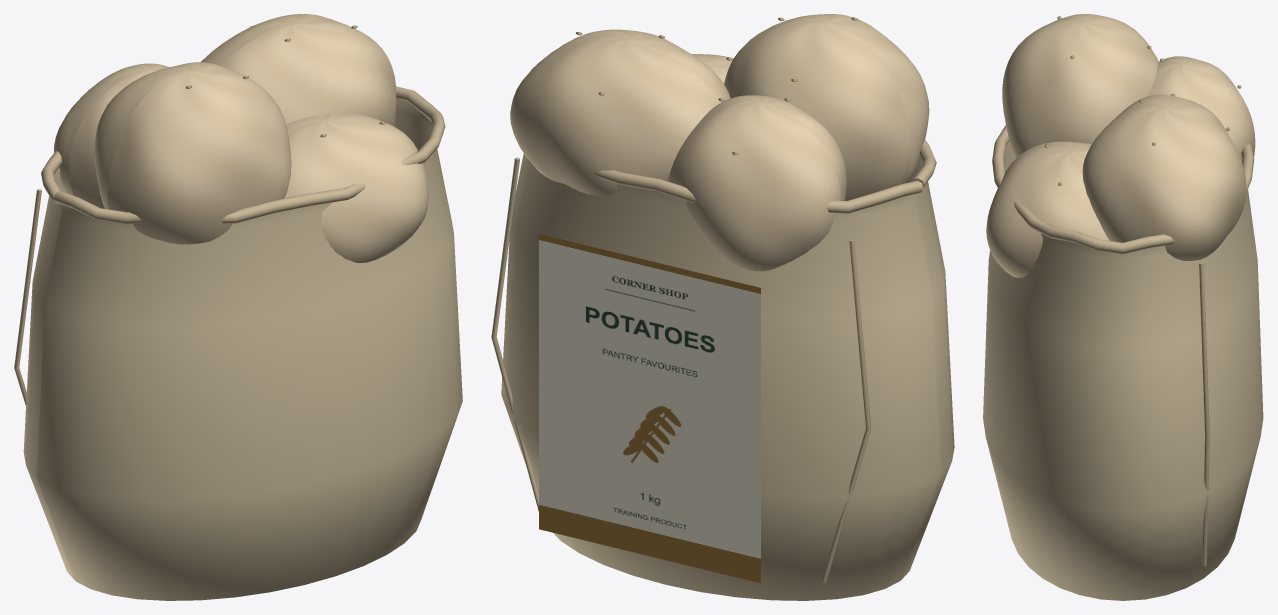
Rendered from potato.glb.
The picture shows the model from 3 angles, left to right: view 1: azimuth 30°, elevation 25°; view 2: azimuth 150°, elevation 25°; view 3: azimuth 270°, elevation 25°; orthographic projection. The views are drawn at different scales.
Visible parts, largest first — view 1: library-potato-open-paper-bag, library-potato-product-potato-skin, library-potato-product-potato-kraft-fold; view 2: library-potato-open-paper-bag, library-potato-product-potato-skin, library-potato-produce-label, library-potato-product-potato-kraft-fold; view 3: library-potato-open-paper-bag, library-potato-product-potato-skin, library-potato-product-potato-kraft-fold.
Boxes of the visible parts, x1=… form: library-potato-open-paper-bag: x1=23, y1=99, x2=462, y2=600; library-potato-product-potato-skin: x1=54, y1=14, x2=428, y2=262; library-potato-product-potato-kraft-fold: x1=14, y1=86, x2=445, y2=405; library-potato-open-paper-bag: x1=501, y1=153, x2=954, y2=600; library-potato-product-potato-skin: x1=510, y1=14, x2=929, y2=271; library-potato-produce-label: x1=539, y1=234, x2=760, y2=583; library-potato-product-potato-kraft-fold: x1=491, y1=140, x2=936, y2=583; library-potato-open-paper-bag: x1=983, y1=141, x2=1263, y2=600; library-potato-product-potato-skin: x1=986, y1=14, x2=1255, y2=277; library-potato-product-potato-kraft-fold: x1=992, y1=125, x2=1254, y2=566.
Size of the model in its own units: 0.148 by 0.178 by 0.0934.
Materials: 5 (1 with a texture image).
